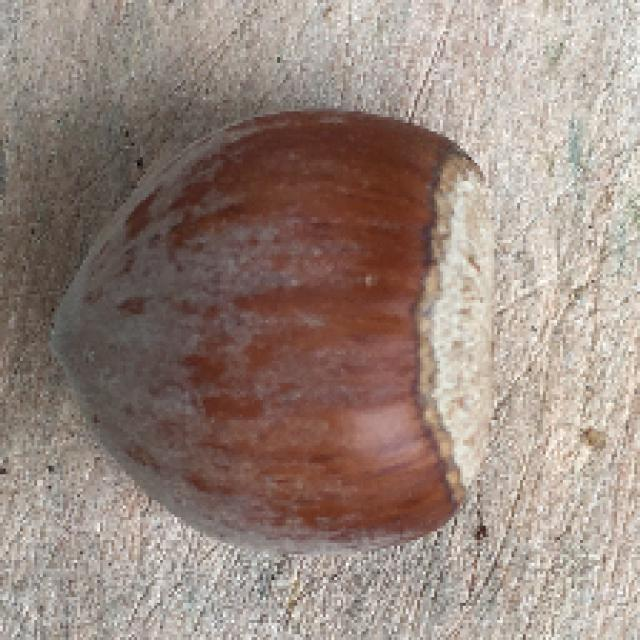qualityHazelnut: (53, 103, 499, 564)
